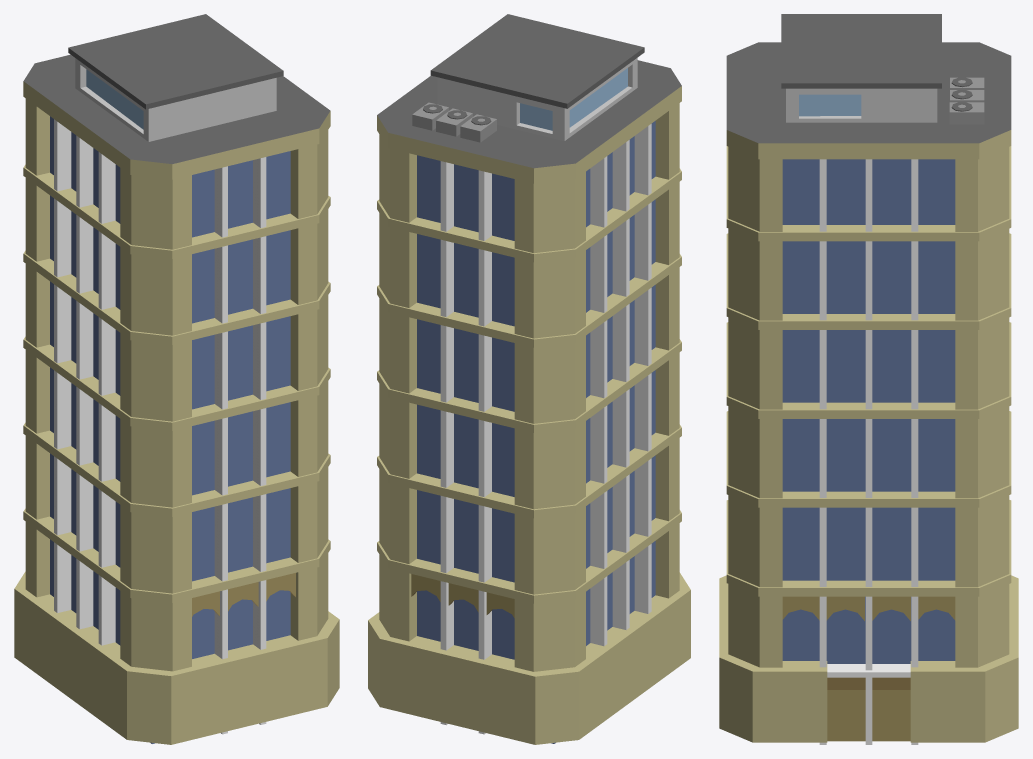
The model's file is house_middle_002.fbx.
3 renders of one model, left to right at view 1: azimuth 30°, elevation 25°; view 2: azimuth 150°, elevation 25°; view 3: azimuth 270°, elevation 25°, orthographic. The views are drawn at different scales.
Parts seen in each view (by area): view 1: house_middle_002; view 2: house_middle_002; view 3: house_middle_002.
Boxes of the visible parts, x1,y1,x2,y2 form: house_middle_002: (14, 14, 339, 744); house_middle_002: (368, 14, 690, 744); house_middle_002: (719, 14, 1018, 744).
Size of the model in its own units: 641 by 1798 by 758.
